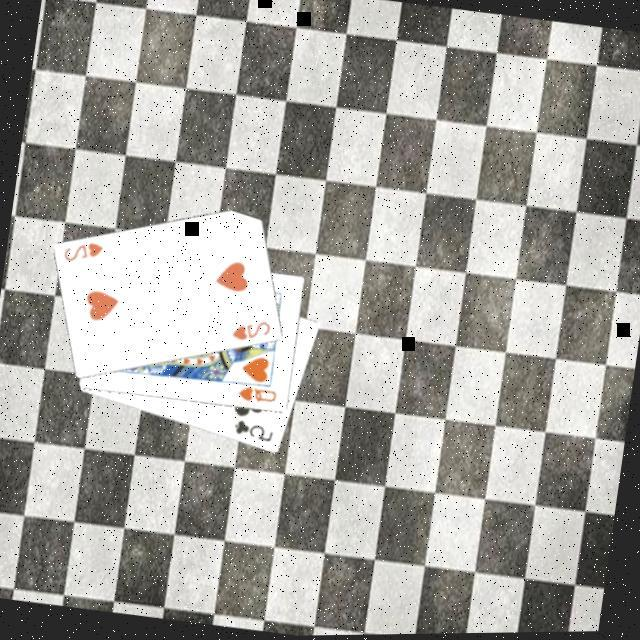2H: (62, 234, 109, 268), (230, 314, 276, 348)
5C: (231, 415, 280, 446)
QH: (236, 382, 282, 410)
